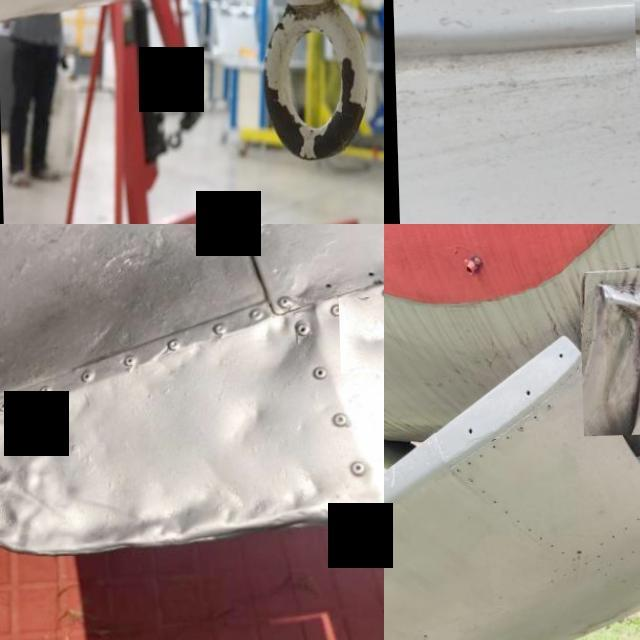Dent: (58, 455, 342, 586), (0, 400, 86, 557), (577, 272, 640, 438), (246, 291, 344, 394), (206, 388, 283, 466), (336, 299, 384, 376)
